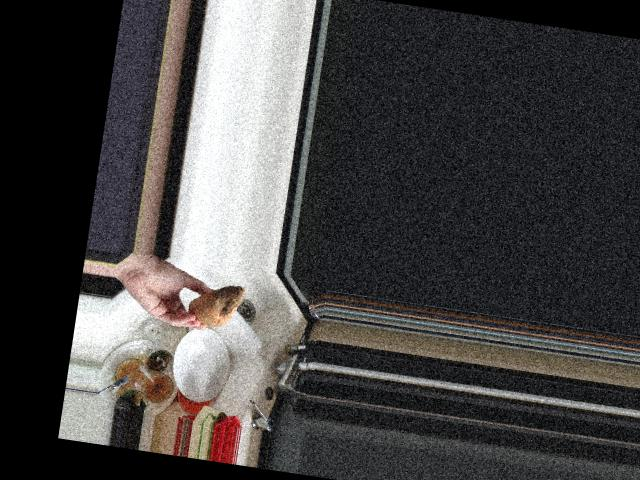sweet_potato: (186, 275, 246, 332)
